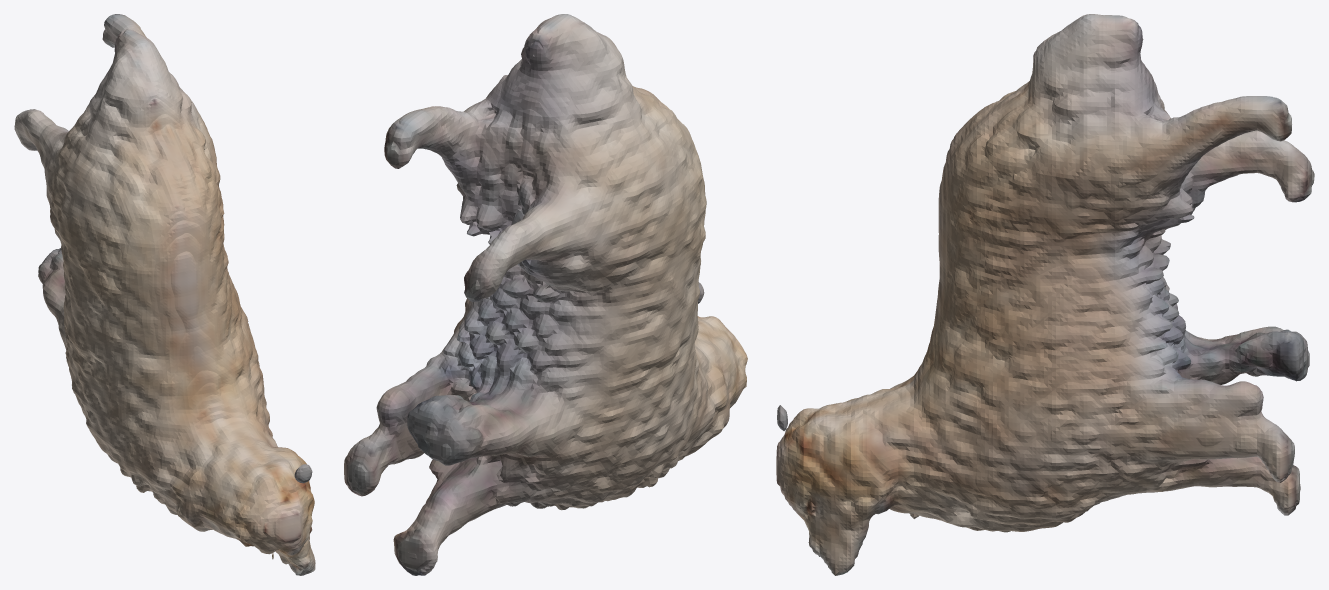
3 views of the same model, side by side, from view 1: azimuth 30°, elevation 25°; view 2: azimuth 150°, elevation 25°; view 3: azimuth 270°, elevation 25° (orthographic). The views are drawn at different scales.
Parts seen in each view (by area): view 1: world; view 2: world; view 3: world.
Part boxes in pixels (x1,y1,x2,y2): world: (14, 14, 315, 575); world: (344, 14, 747, 575); world: (776, 14, 1314, 575).
Bounding box in the file's own units: 0.422 × 1.01 × 0.9327.
